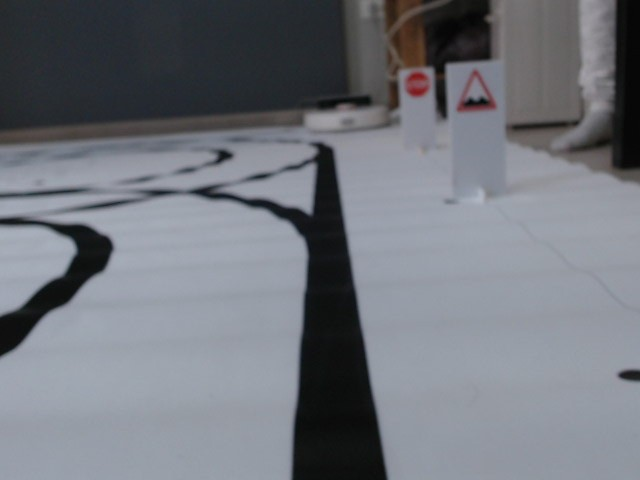Nerov: (457, 67, 499, 113)
